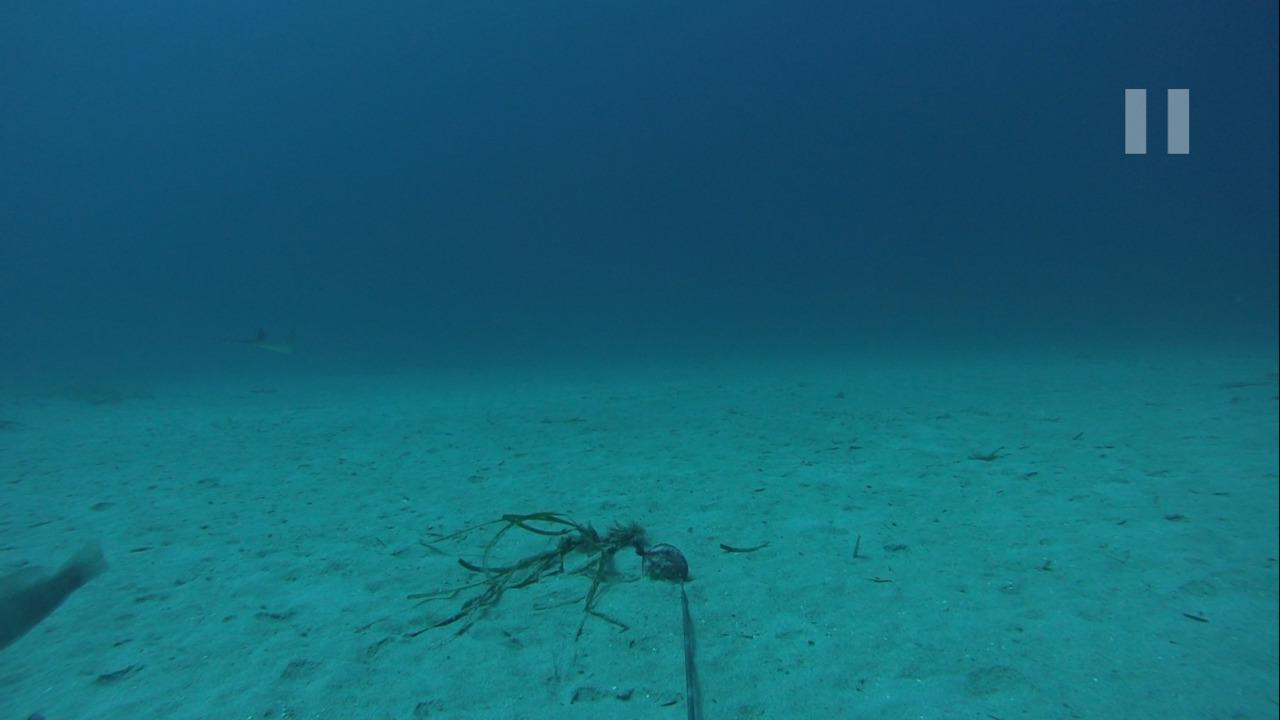myliobatis: (164, 319, 316, 367)
raor: (1, 539, 106, 646)
